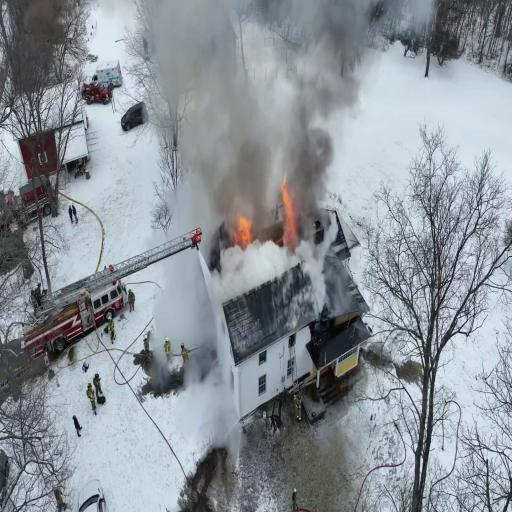fire: (271, 178, 317, 269), (231, 191, 258, 254)
